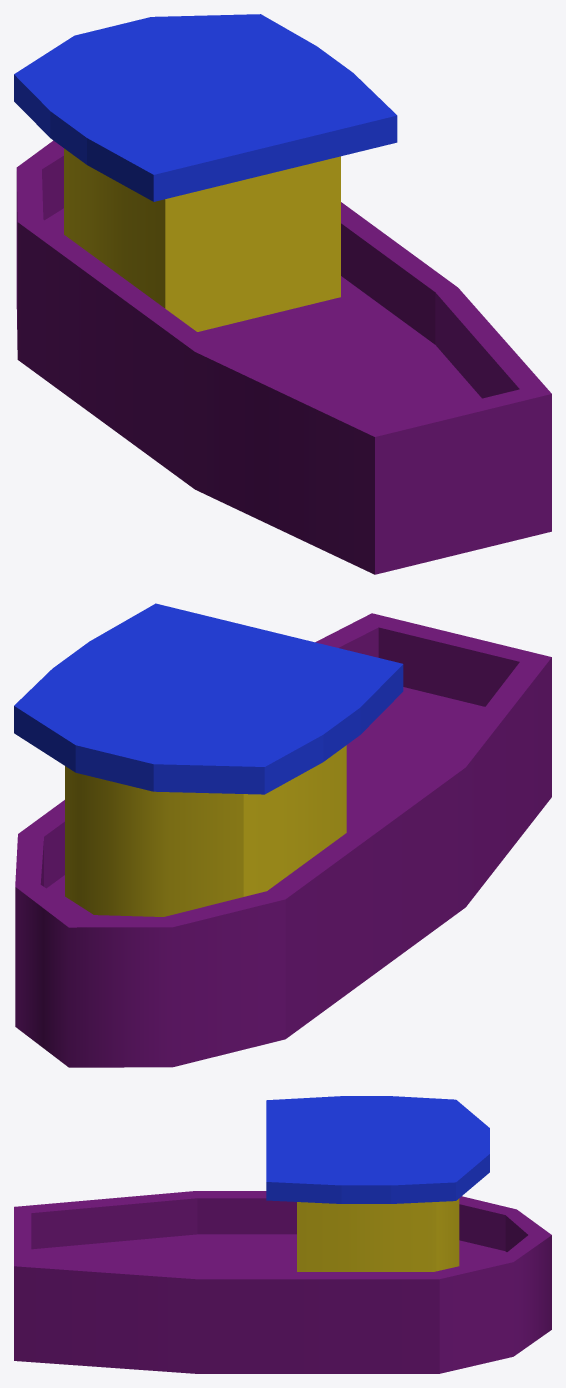
Rendered from mesh_bateau_jouet.fbx.
The picture shows the model from 3 angles, top to bottom: view 1: azimuth 30°, elevation 25°; view 2: azimuth 150°, elevation 25°; view 3: azimuth 270°, elevation 25°; orthographic projection. The views are drawn at different scales.
Parts seen in each view (by area): view 1: Bateau; view 2: Bateau; view 3: Bateau.
Part boxes in pixels (x1,y1,x2,y2): Bateau: (14,14,551,574); Bateau: (14,603,551,1067); Bateau: (14,1096,551,1373).
Bounding box in the file's own units: 6.07 × 5.98 × 15.45.
